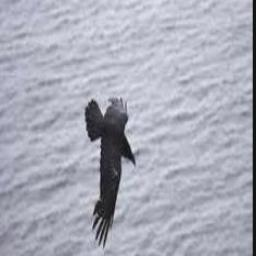Crow: (85, 93, 137, 248)
